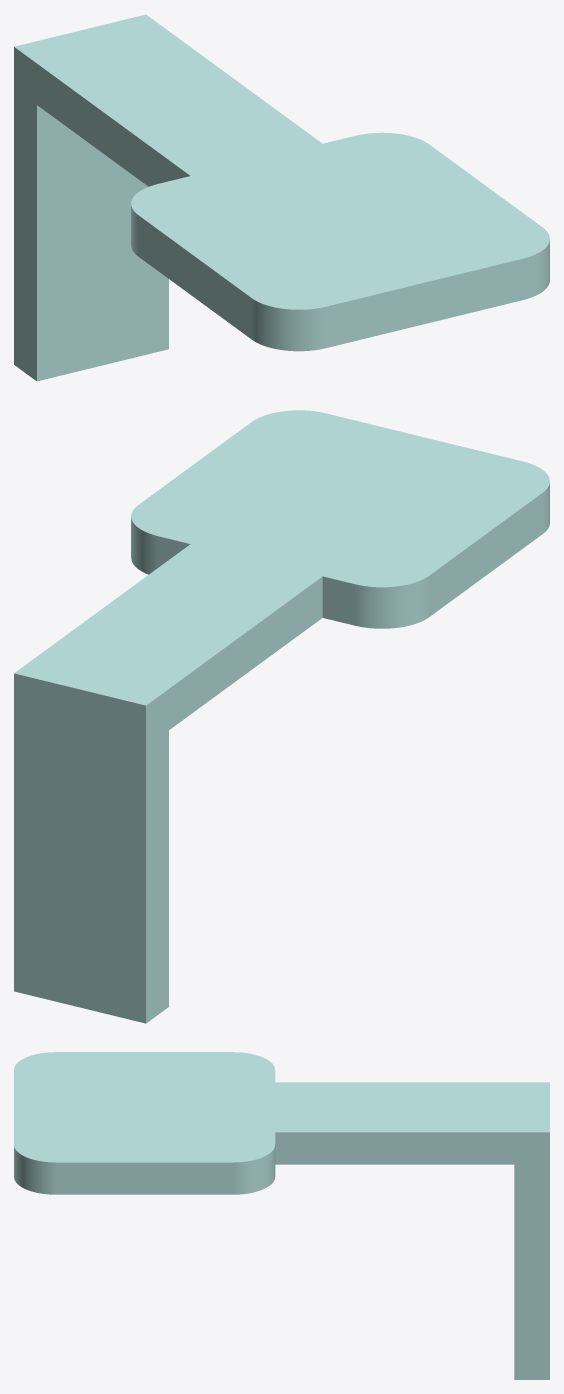
3 renders of one model, top to bottom at view 1: azimuth 30°, elevation 25°; view 2: azimuth 150°, elevation 25°; view 3: azimuth 270°, elevation 25°, orthographic. The views are drawn at different scales.
Parts seen in each view (by area): view 1: mesh384, mesh374, mesh376, mesh383, mesh386, mesh387, mesh382; view 2: mesh384, mesh375, mesh376, mesh386, mesh388, mesh378, mesh380; view 3: mesh384, mesh377, mesh381, mesh380, mesh382.
Part boxes in pixels (x1,y1,x2,y2): mesh384: [14, 14, 549, 309]; mesh374: [37, 105, 168, 381]; mesh376: [14, 47, 189, 381]; mesh383: [326, 258, 522, 347]; mesh386: [138, 215, 251, 339]; mesh387: [252, 298, 325, 351]; mesh382: [523, 240, 549, 299]; mesh384: [14, 410, 549, 705]; mesh375: [14, 673, 145, 1023]; mesh376: [146, 576, 322, 1023]; mesh386: [429, 493, 542, 616]; mesh388: [355, 576, 428, 628]; mesh378: [322, 576, 354, 625]; mesh380: [131, 517, 158, 574]; mesh384: [14, 1052, 549, 1162]; mesh377: [275, 1132, 549, 1379]; mesh381: [56, 1162, 232, 1194]; mesh380: [233, 1145, 275, 1194]; mesh382: [14, 1146, 55, 1194].
Size of the model in its own units: 0.022 by 0.023 by 0.0452.
